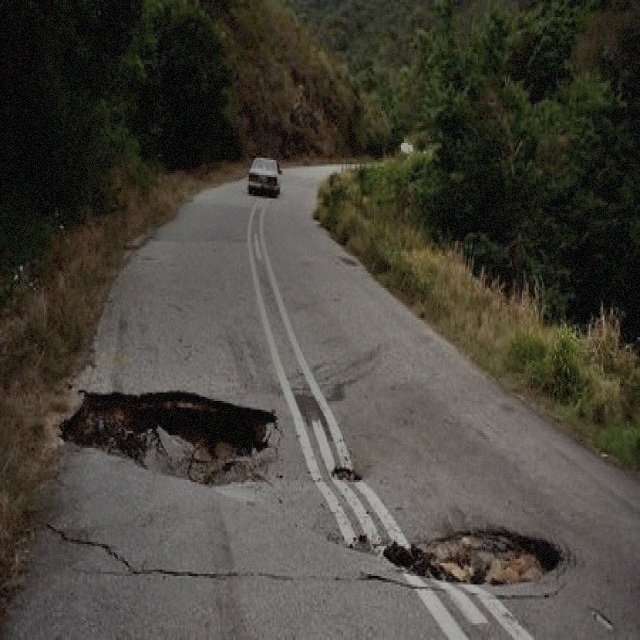pothole: (54, 379, 280, 488), (381, 520, 570, 591), (327, 461, 367, 484)
